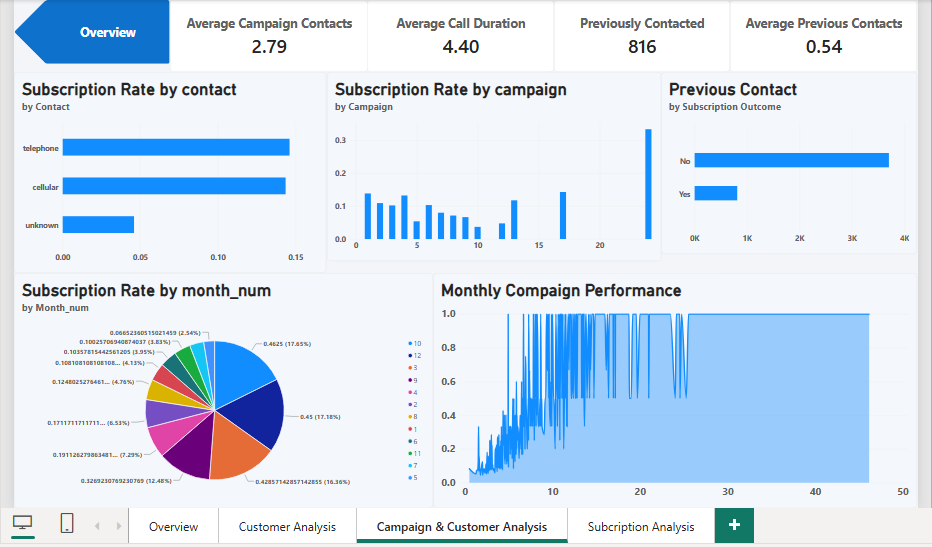

The dashboard page shown, as its layout file describes it:
{"tool":"powerbi","page":{"name":"Campaign & Customer Analysis","canvas":[1920,1080],"ordinal":2},"visuals":[{"type":"cardVisual","fields":{"Data":["bank_cleaned.Average Campaign Contacts"]},"box":[331.1,0,420,153.3],"z":0},{"type":"cardVisual","fields":{"Data":["bank_cleaned.Previously Contacted"]},"box":[1148.9,0,373.3,153.3],"z":1000},{"type":"cardVisual","fields":{"Data":["bank_cleaned.Average Call Duration"]},"box":[751.1,0,397.8,153.3],"z":2000},{"type":"cardVisual","fields":{"Data":["bank_cleaned.Average Previous Contacts"]},"box":[1522.2,0,397.8,153.3],"z":3000},{"type":"actionButton","box":[0,0,331.1,135.6],"z":4000},{"type":"clusteredBarChart","fields":{"Category":["bank_cleaned.contact"],"Y":["bank_cleaned.Subscription Rate"]},"box":[0,153.3,664.4,426.7],"z":5000},{"type":"clusteredColumnChart","fields":{"Category":["bank_cleaned.campaign"],"Y":["bank_cleaned.Subscription Rate"]},"box":[664.4,153.3,711.1,402.2],"z":6000},{"type":"areaChart","title":"Monthly Compaign Performance","fields":{"Category":["bank_cleaned.duration_minutes"],"Y":["bank_cleaned.Subscription Rate"]},"box":[891.1,580,1028.9,500],"z":7000},{"type":"pieChart","fields":{"Category":["bank_cleaned.month_num"],"Y":["bank_cleaned.Subscription Rate"]},"box":[0,580,891.1,500],"z":8000},{"type":"barChart","title":"Previous Contact","fields":{"Category":["bank_cleaned.previously_contacted"],"Y":["CountNonNull(bank_cleaned.y)"]},"box":[1375.6,153.3,544.4,386.7],"z":8001}]}

Visuals, with their boxes on the page's 1920x1080 design canvas (x1, y1, x2, y2). These are canvas units, not pixel positions in the 932x547 screenshot, which may show the page scaled, cropped or inside an application window:
cardVisual - bank_cleaned.Average Campaign Contacts: crop(331, 0, 751, 153)
cardVisual - bank_cleaned.Previously Contacted: crop(1149, 0, 1522, 153)
cardVisual - bank_cleaned.Average Call Duration: crop(751, 0, 1149, 153)
cardVisual - bank_cleaned.Average Previous Contacts: crop(1522, 0, 1920, 153)
actionButton: crop(0, 0, 331, 136)
clusteredBarChart - bank_cleaned.contact x bank_cleaned.Subscription Rate: crop(0, 153, 664, 580)
clusteredColumnChart - bank_cleaned.campaign x bank_cleaned.Subscription Rate: crop(664, 153, 1376, 556)
"Monthly Compaign Performance" areaChart: crop(891, 580, 1920, 1080)
pieChart - bank_cleaned.month_num x bank_cleaned.Subscription Rate: crop(0, 580, 891, 1080)
"Previous Contact" barChart: crop(1376, 153, 1920, 540)
